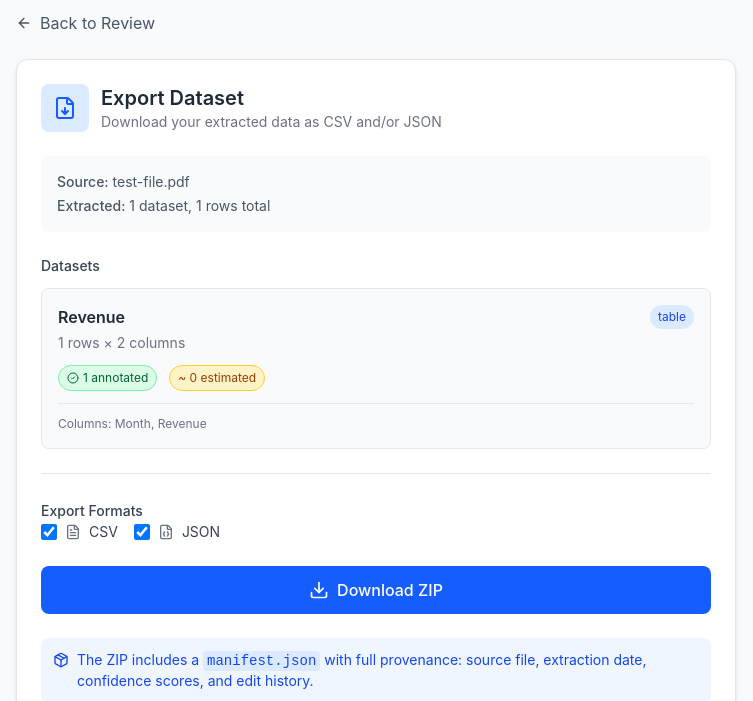
Test: Page integration tests › ExportPage shows error when no format selected
// Uncheck CSV and JSON
Click the checkbox labelled "CSV".
click(49, 532)  # box [41,524,57,540]
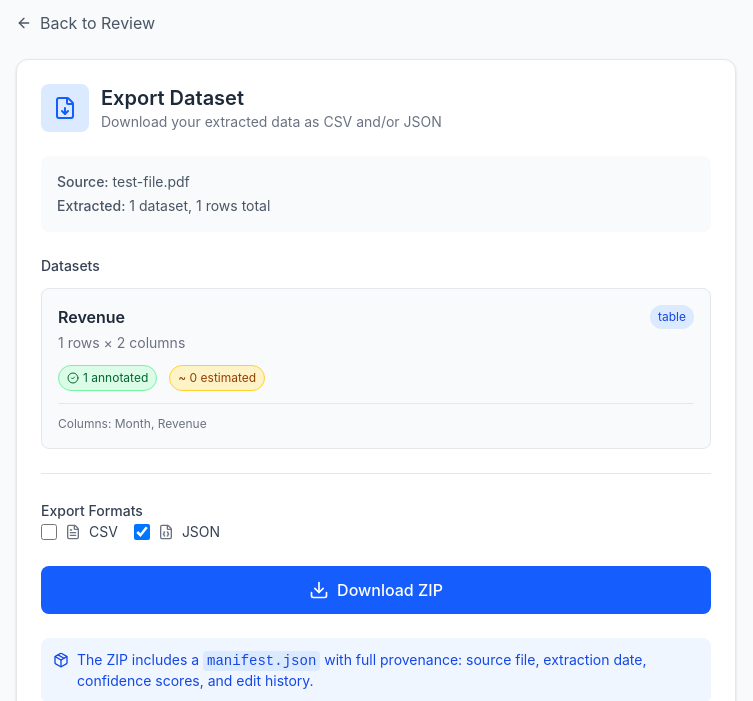
Click the checkbox labelled "JSON".
click(142, 532)  # box [134,524,150,540]
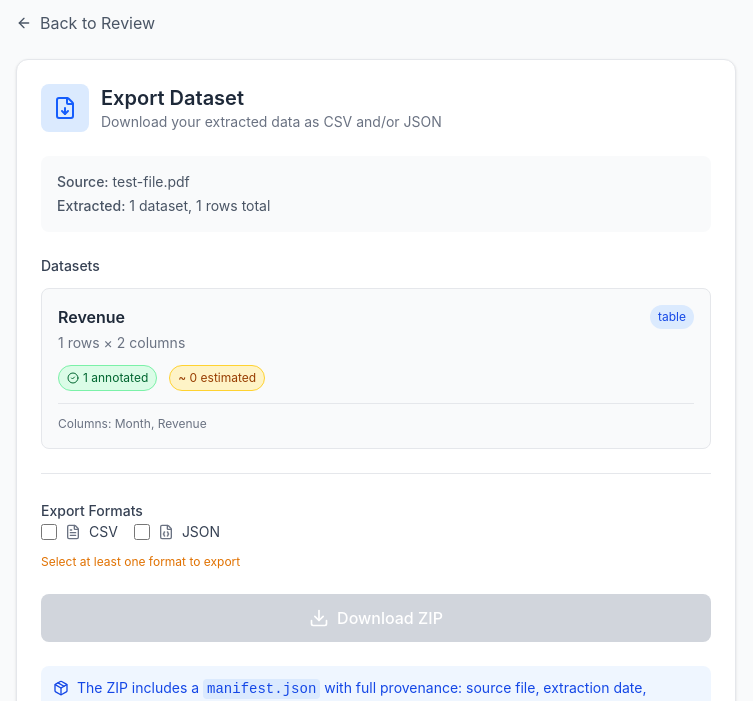
Expected: the button "Download ZIP" is disabled, [41,594,711,642]
Expected: the text "Select at least one format to export" is shown, [41,554,240,569]
